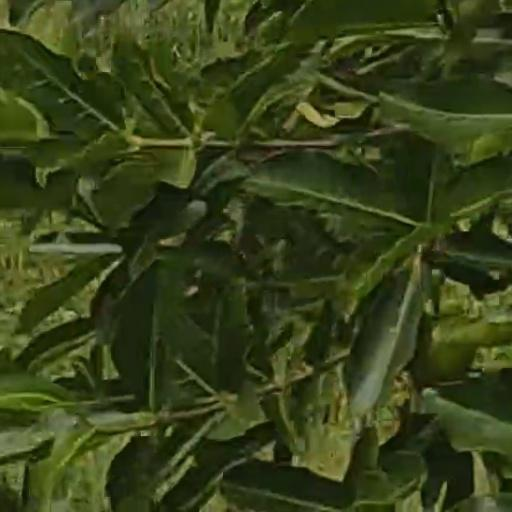acerola: (411, 316, 472, 381)
